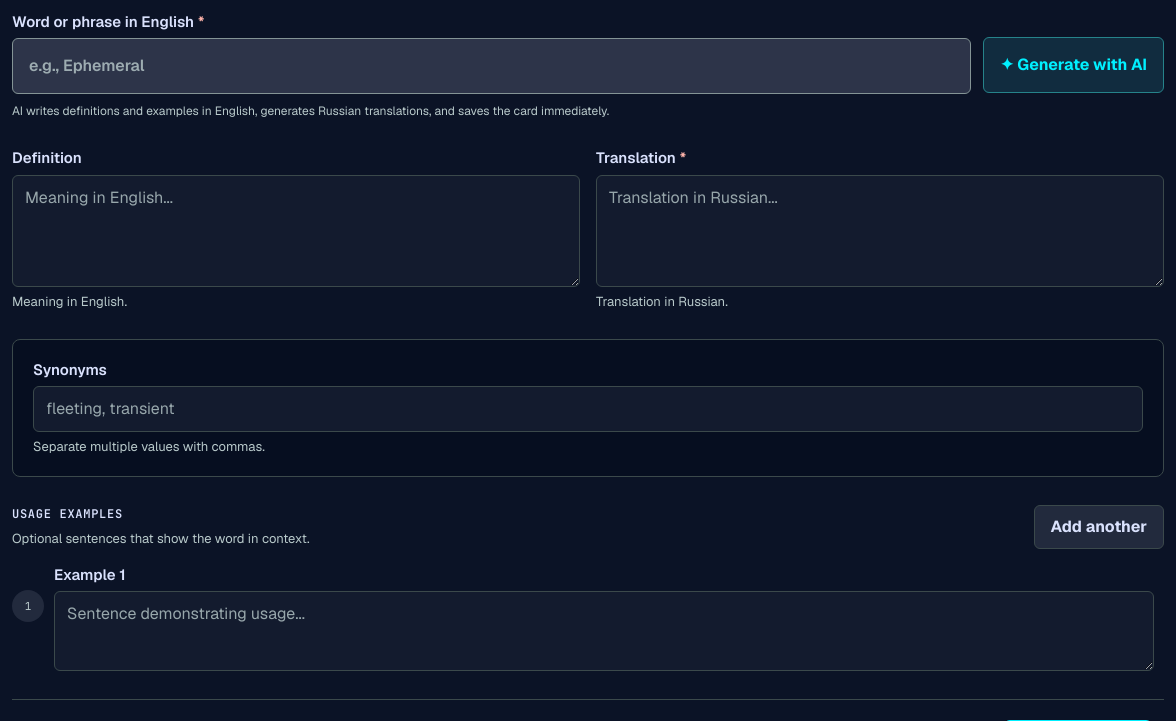
it: AddCardForm › requires a word or phrase before starting AI generation
Click the button "✦ Generate with AI" at (1074, 65), box [983,37,1164,93]
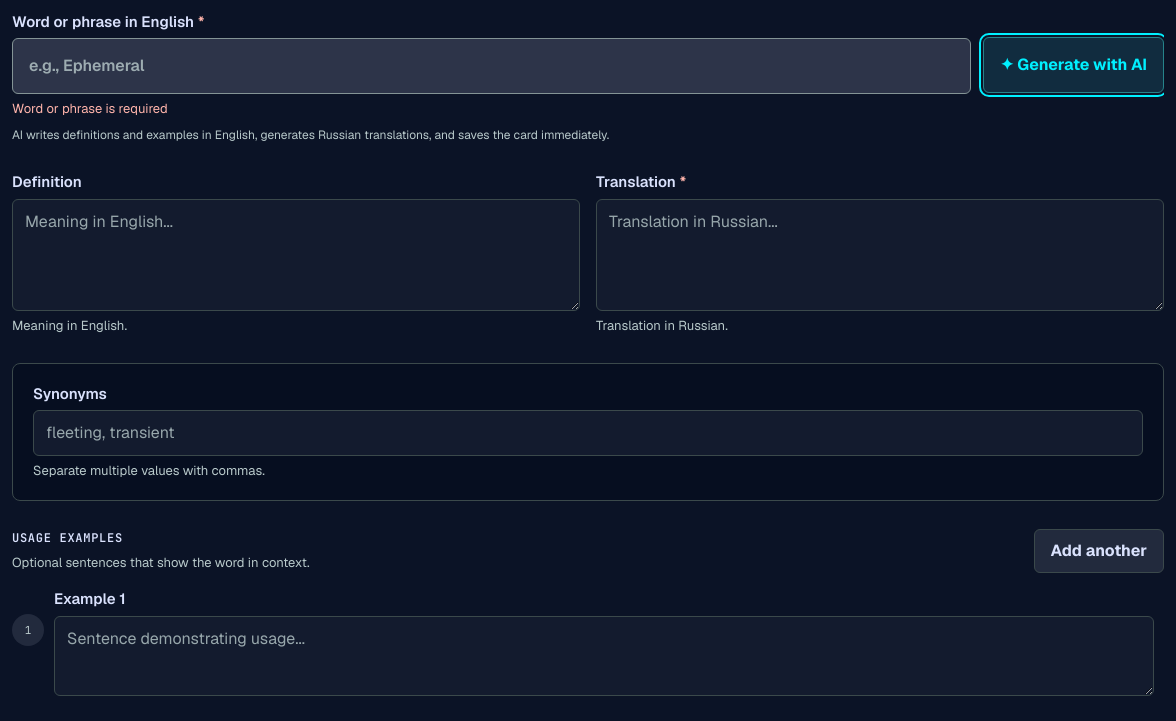
Expected: the text "Word or phrase is required" is shown, [12,100,168,117]
